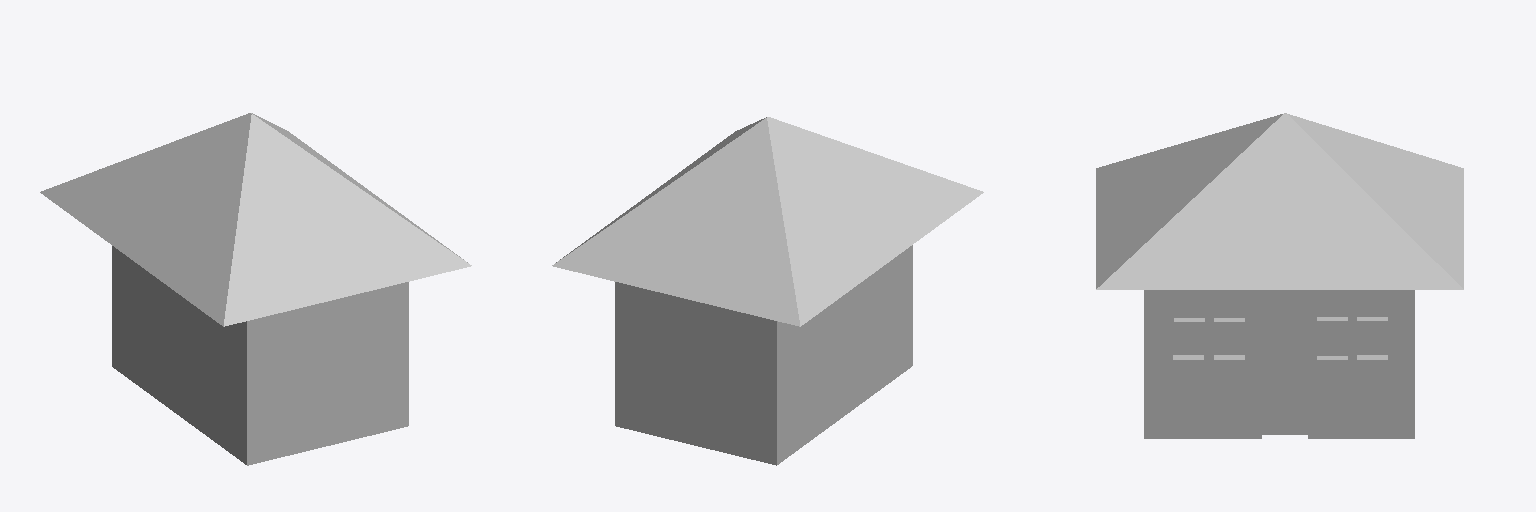
File: domek1.obj
The picture shows the model from 3 angles: view 1: azimuth 30°, elevation 25°; view 2: azimuth 150°, elevation 25°; view 3: azimuth 270°, elevation 25°; orthographic projection.
Visible parts, largest first — view 1: Kostka, Cube; view 2: Kostka, Cube; view 3: Kostka, Cube.
Boxes of the visible parts, box(x1,y1,x2,y2) form: Kostka: box(40, 113, 471, 326); Cube: box(112, 246, 408, 465); Kostka: box(552, 117, 983, 326); Cube: box(615, 245, 912, 465); Kostka: box(1096, 113, 1463, 289); Cube: box(1144, 290, 1414, 438).
Size of the model in its own units: 3.07 by 3.33 by 3.93.